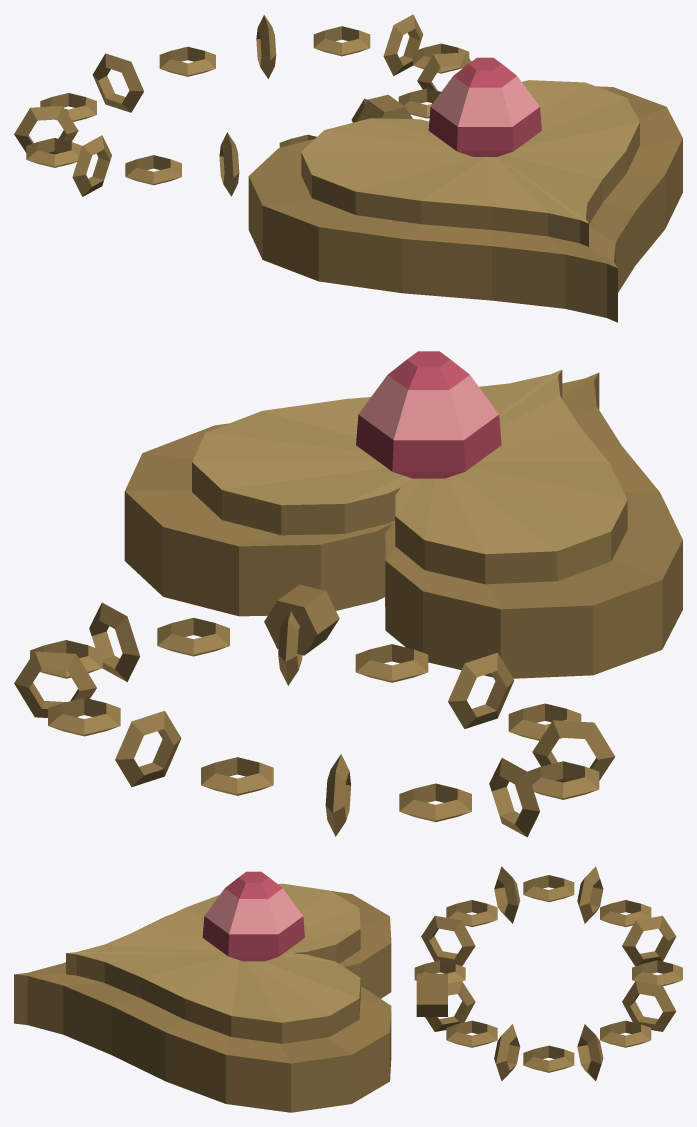
Rendered from quest_locket.glb.
3 renders of one model, top to bottom at view 1: azimuth 30°, elevation 25°; view 2: azimuth 150°, elevation 25°; view 3: azimuth 270°, elevation 25°, orthographic. The views are drawn at different scales.
Parts seen in each view (by area): view 1: quest_locket; view 2: quest_locket; view 3: quest_locket.
Part boxes in pixels (<box>): quest_locket: <box>14,14,682,322</box>; quest_locket: <box>14,351,682,837</box>; quest_locket: <box>14,866,682,1112</box>.
Size of the model in its own units: 0.335 by 0.1083 by 0.431.
